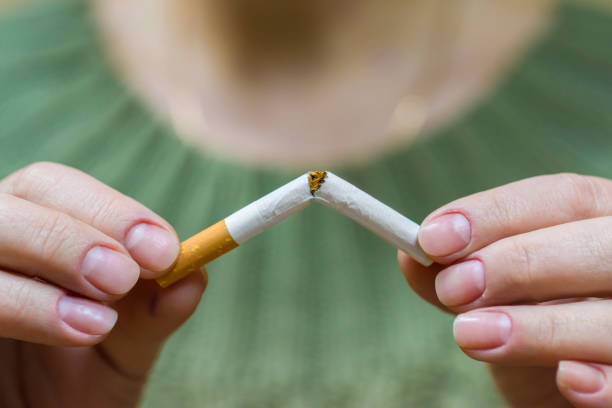cigarette: (155, 170, 317, 288), (309, 170, 435, 268)
